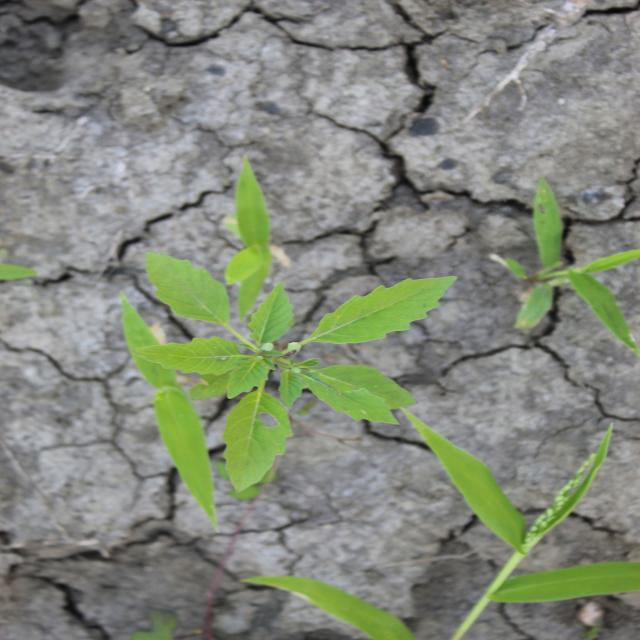CutleafGroundcherry: (127, 251, 461, 492)
